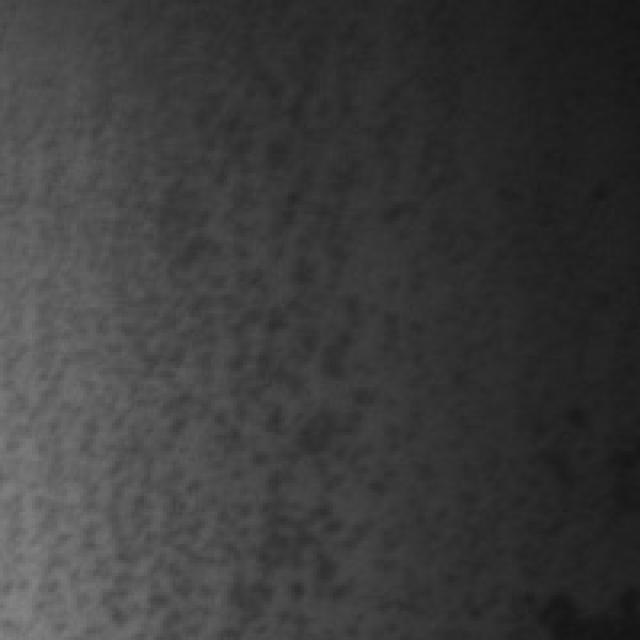pitted_surface: (0, 48, 490, 630)
